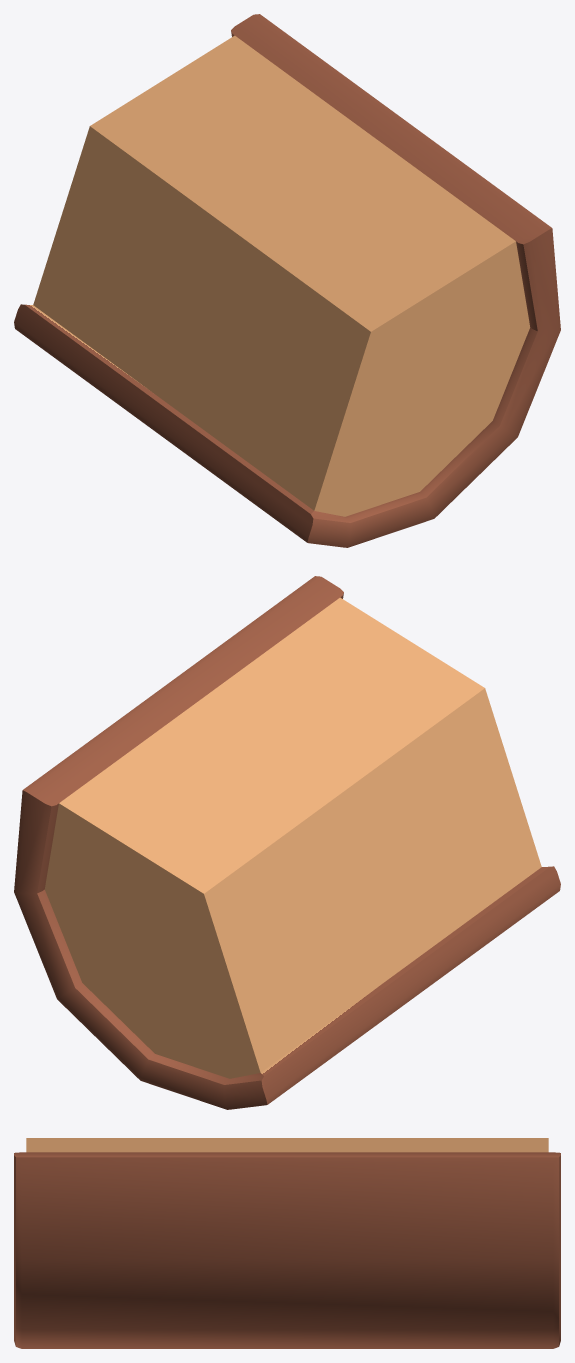
The model's file is Log_03.fbx.
3 views of the same model, one above another, from view 1: azimuth 30°, elevation 25°; view 2: azimuth 150°, elevation 25°; view 3: azimuth 270°, elevation 25° (orthographic). The views are drawn at different scales.
Visible parts, largest first — view 1: Log_03; view 2: Log_03; view 3: Log_03.
Part boxes in pixels (x1=…): Log_03: x1=14, y1=14, x2=560, y2=547; Log_03: x1=14, y1=576, x2=560, y2=1109; Log_03: x1=14, y1=1138, x2=560, y2=1348.
Size of the model in its own units: 264 by 269 by 528.
